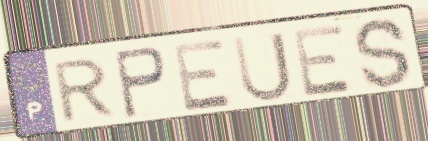E: (289, 21, 356, 100), (170, 36, 237, 114)
P: (111, 44, 170, 121)
R: (51, 54, 119, 127)
S: (351, 16, 415, 91)
U: (229, 29, 295, 105)
